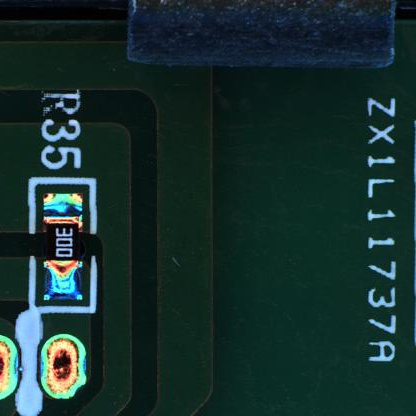spot: (38, 333, 93, 399)
